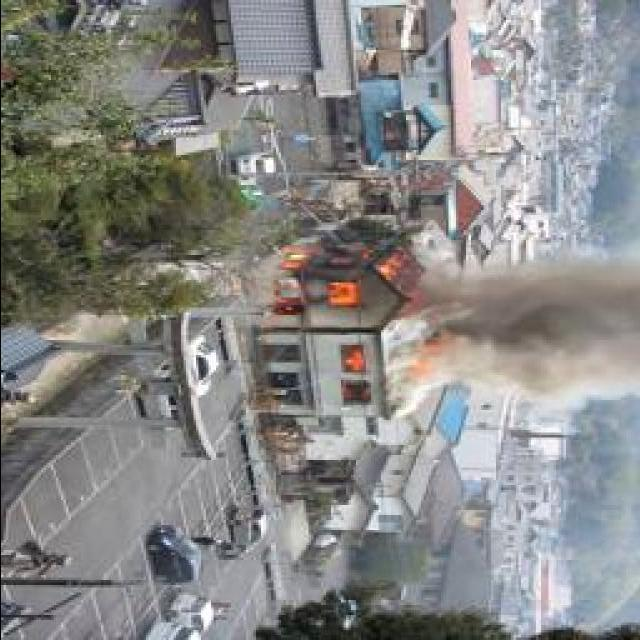Fire: (265, 234, 396, 314), (335, 341, 368, 374)
